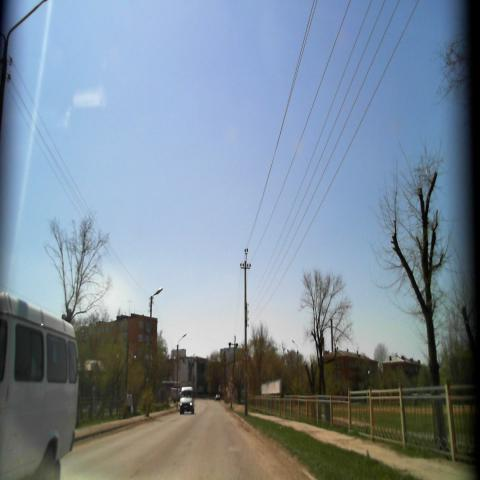1_11_1: (242, 349, 250, 362)
